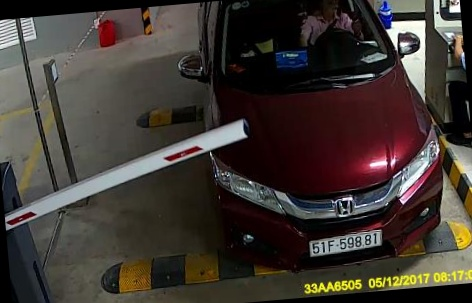plate: (301, 228, 387, 261)
